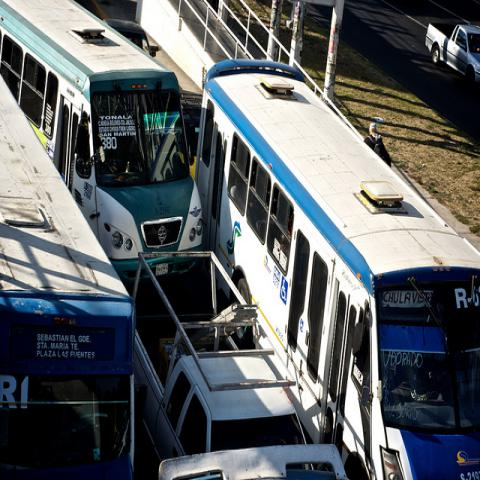bus: (195, 56, 479, 474), (1, 0, 206, 282), (0, 73, 137, 479)
truck: (131, 245, 309, 462), (424, 20, 480, 83)
